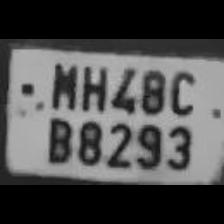2: (102, 116, 131, 169)
3: (162, 119, 194, 172)
4: (106, 60, 138, 113)
8: (136, 64, 166, 114), (74, 116, 102, 166)
9: (132, 119, 162, 170)
B: (44, 114, 72, 162)
C: (166, 61, 198, 116)
H: (76, 61, 106, 112)
M: (45, 58, 77, 111)
